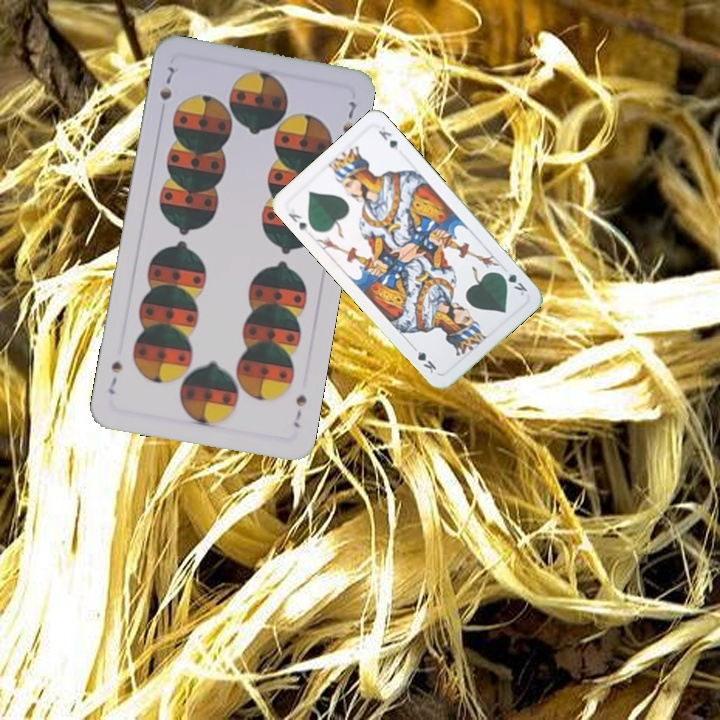GK: (495, 268, 530, 298), (284, 205, 311, 235)
S7: (155, 62, 177, 103), (289, 391, 309, 430)
